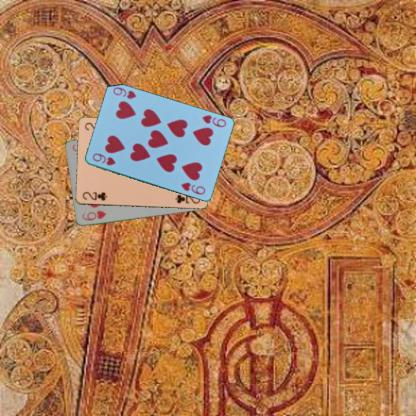2c: (80, 190, 108, 202)
6h: (79, 208, 107, 222)
9h: (199, 113, 227, 129), (90, 151, 116, 167)
